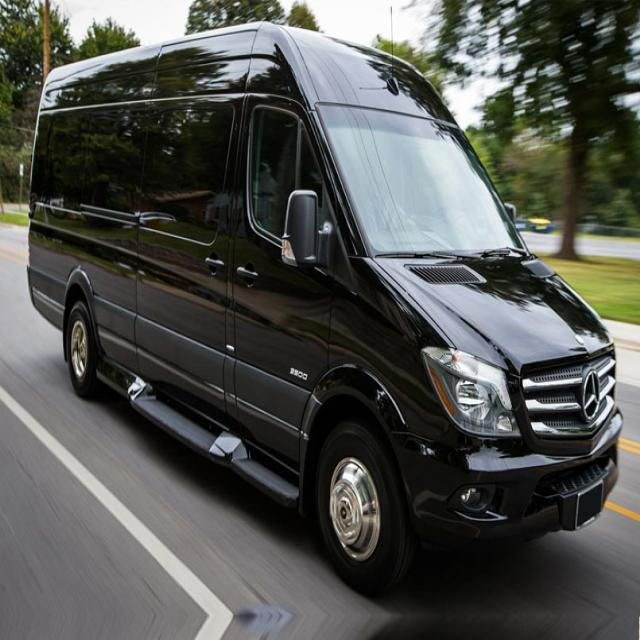bus: (26, 23, 622, 594)
